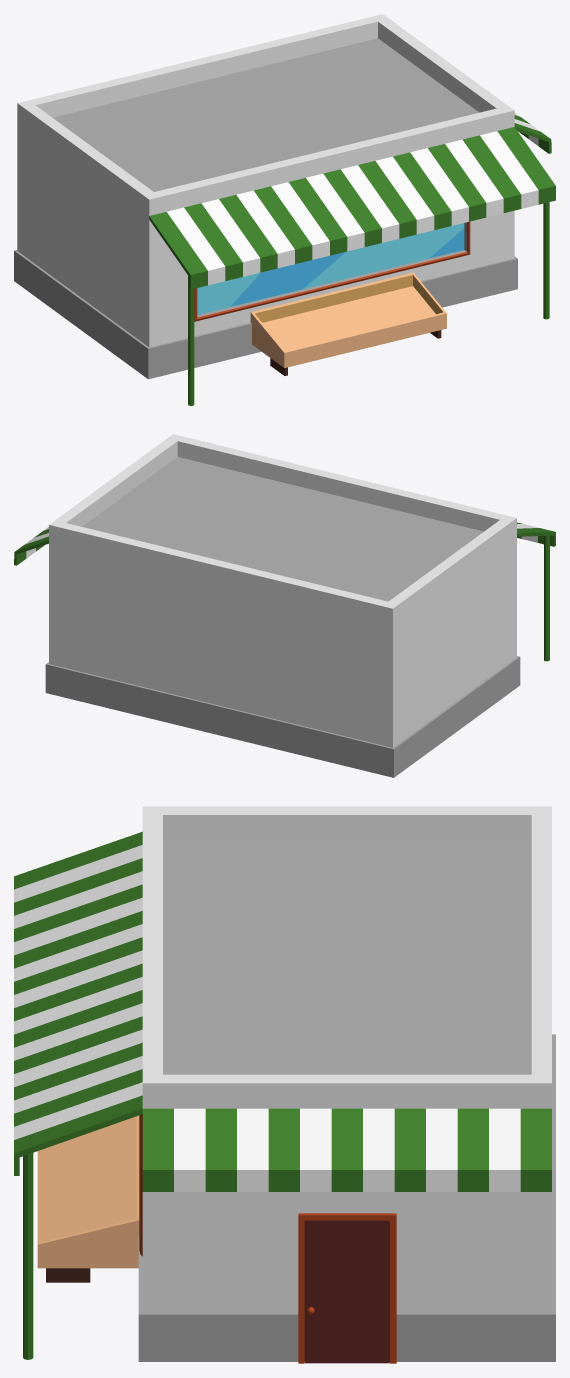
File: Env_CommercialBuilding_03.fbx
3 views of the same model, one above another, from view 1: azimuth 30°, elevation 25°; view 2: azimuth 150°, elevation 25°; view 3: azimuth 270°, elevation 25° (orthographic). The views are drawn at different scales.
Visible parts, largest first — view 1: Env_CommercialBuilding_03; view 2: Env_CommercialBuilding_03; view 3: Env_CommercialBuilding_03.
Part boxes in pixels (bbox=[...]): Env_CommercialBuilding_03: bbox=[14, 14, 555, 405]; Env_CommercialBuilding_03: bbox=[14, 434, 555, 777]; Env_CommercialBuilding_03: bbox=[14, 806, 555, 1363].
Size of the model in its own units: 1064 by 450 by 794.
